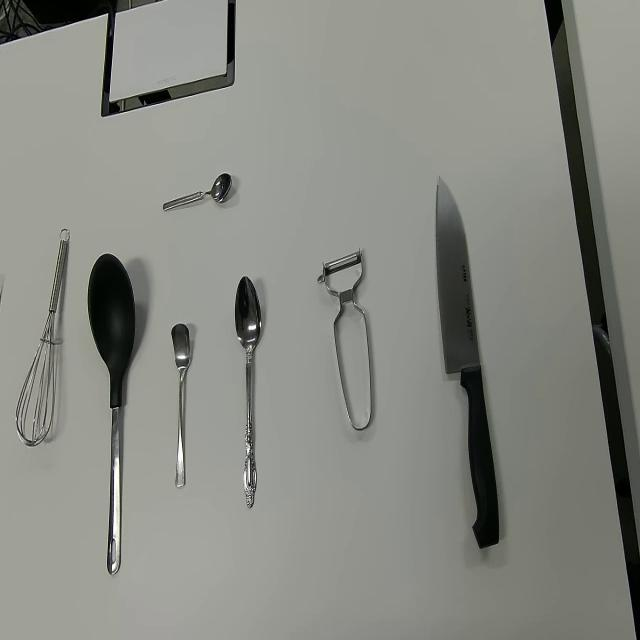Desert-Spoon: (234, 274, 263, 512)
Kitchen-Knife: (435, 173, 501, 550)
Peeler: (317, 248, 373, 432)
Serving-Spoon: (86, 252, 136, 576)
Tea-Spoon: (170, 322, 191, 488), (162, 170, 232, 213)
Whisk: (15, 227, 70, 448)
